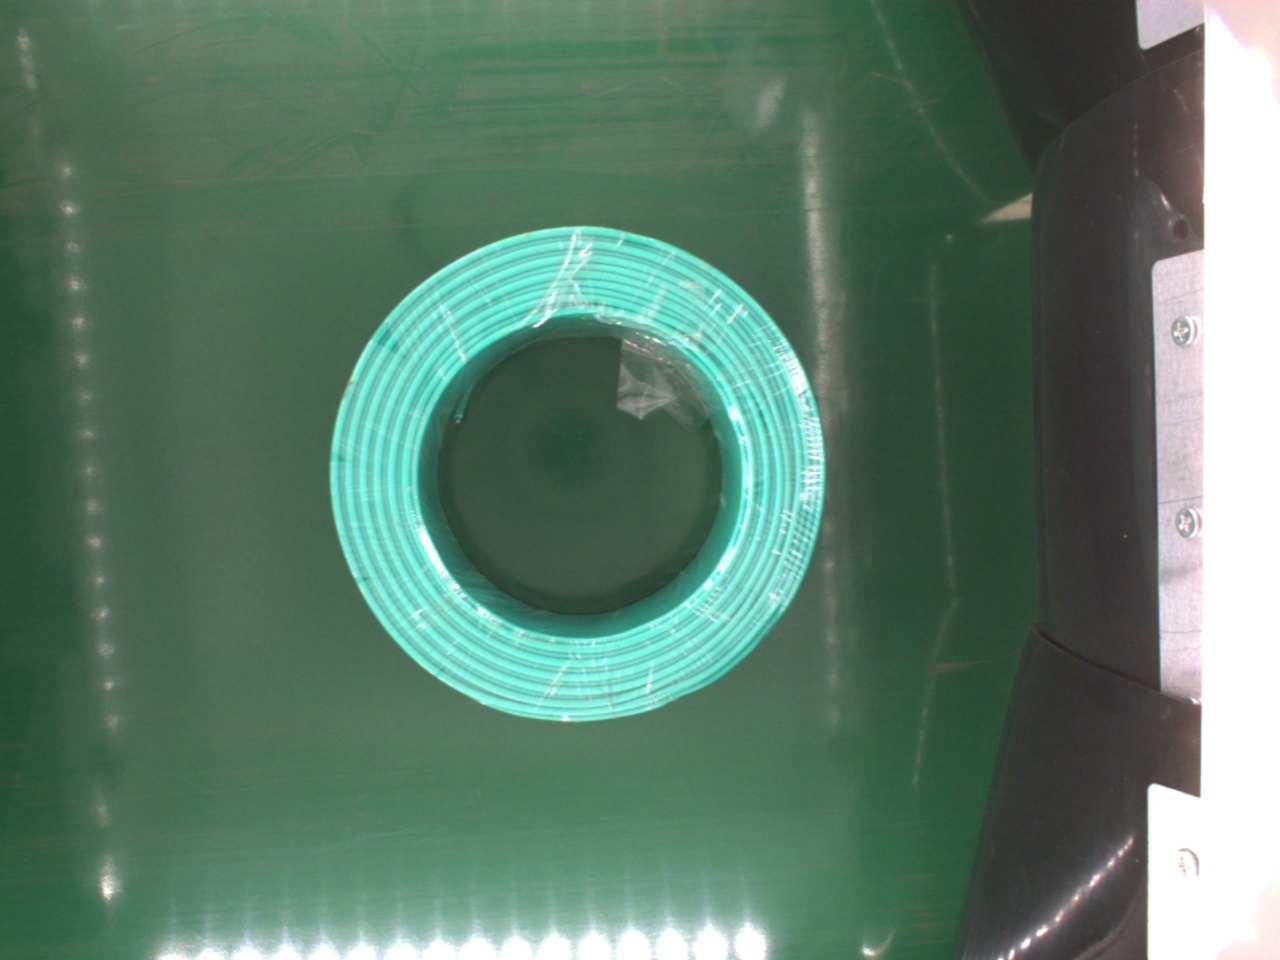green: (330, 222, 830, 731)
